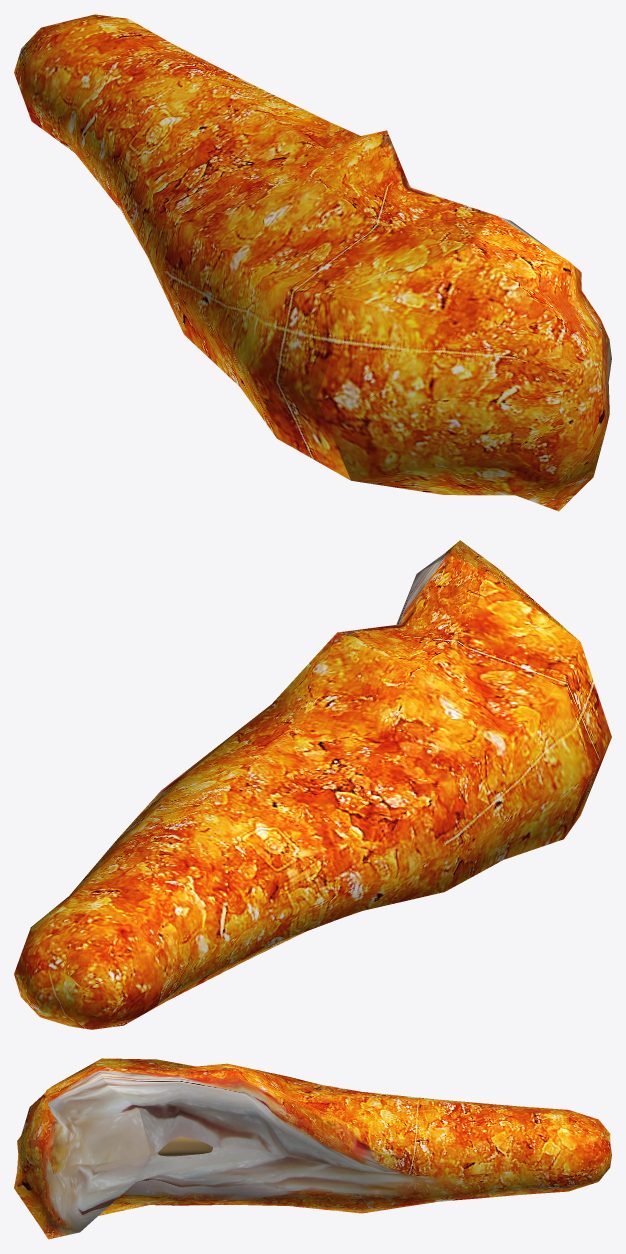
Rendered from FriedChicken_eat01.FBX.
3 views of the same model, one above another, from view 1: azimuth 30°, elevation 25°; view 2: azimuth 150°, elevation 25°; view 3: azimuth 270°, elevation 25° (orthographic). The views are drawn at different scales.
Visible parts, largest first — view 1: Chicken; view 2: Chicken; view 3: Chicken, w.
Part boxes in pixels (<box>): Chicken: <box>14,14,611,511</box>; Chicken: <box>14,540,611,1029</box>; Chicken: <box>14,1058,611,1239</box>; w: <box>158,1136,212,1156</box>.
Bounding box in the file's own units: 11.17 × 10.48 × 34.28.
Materials: 2 (1 with a texture image).
